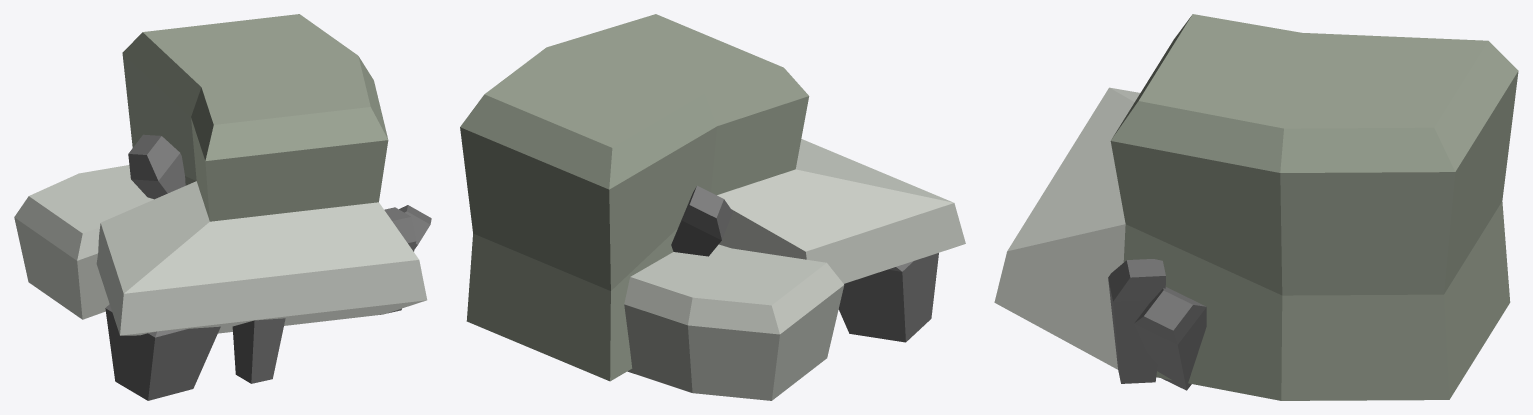
File: Rock_Type6_02.glb
3 views of the same model, side by side, from view 1: azimuth 30°, elevation 25°; view 2: azimuth 150°, elevation 25°; view 3: azimuth 270°, elevation 25° (orthographic). The views are drawn at different scales.
Visible parts, largest first — view 1: Rock Type6 02 mesh; view 2: Rock Type6 02 mesh; view 3: Rock Type6 02 mesh.
Part boxes in pixels (x1,y1,x2,y2): Rock Type6 02 mesh: [14, 14, 431, 400]; Rock Type6 02 mesh: [460, 14, 965, 400]; Rock Type6 02 mesh: [994, 14, 1518, 400].
Bounding box in the file's own units: 1.79 × 1.15 × 1.83.
1 material, 1 textured.
